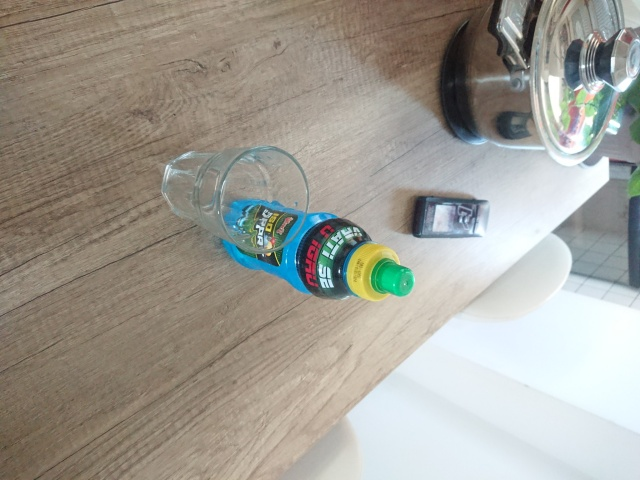Vindi Iso Sport Forest Strawberries 500mL: (220, 196, 416, 303)
